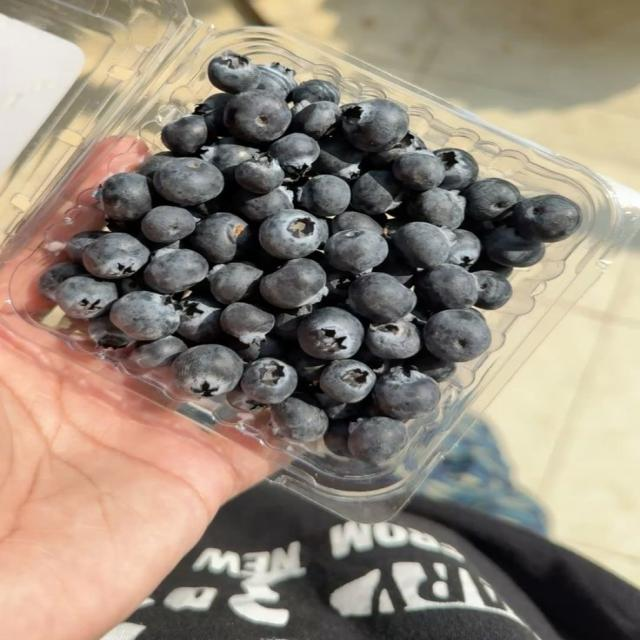blueberry: (173, 345, 243, 396), (110, 291, 180, 341), (225, 90, 291, 143), (342, 99, 408, 152), (373, 367, 439, 420), (424, 310, 491, 362), (298, 308, 364, 359), (348, 273, 416, 322), (260, 259, 326, 309), (154, 158, 224, 205), (513, 195, 581, 242), (190, 213, 251, 263), (260, 210, 322, 259), (83, 233, 149, 279), (415, 264, 477, 311), (325, 229, 388, 273), (144, 250, 208, 293), (348, 417, 407, 463), (55, 276, 117, 319), (393, 222, 450, 268), (240, 358, 297, 404), (201, 138, 259, 183), (271, 397, 328, 442), (100, 173, 153, 221), (268, 133, 319, 181), (462, 179, 520, 221), (320, 360, 375, 403), (484, 228, 544, 267), (407, 188, 465, 228), (352, 170, 403, 215), (297, 175, 351, 217), (220, 303, 274, 344), (209, 263, 263, 304), (366, 319, 421, 359), (314, 136, 364, 180), (177, 295, 222, 343), (208, 51, 259, 93), (367, 132, 426, 168), (392, 151, 445, 191), (233, 187, 293, 221), (234, 154, 285, 194), (141, 206, 195, 243), (161, 115, 209, 155), (130, 336, 186, 368), (39, 262, 86, 300), (292, 101, 340, 138), (435, 149, 478, 189), (374, 245, 413, 286), (194, 93, 232, 135), (407, 350, 455, 382), (257, 62, 297, 100), (473, 271, 512, 309), (87, 317, 133, 348), (288, 351, 326, 386), (315, 394, 366, 420), (447, 229, 481, 268), (274, 306, 312, 340), (355, 342, 394, 375), (290, 79, 339, 104), (67, 231, 106, 262), (185, 194, 233, 219), (331, 211, 382, 234), (136, 152, 177, 178), (470, 254, 513, 278), (324, 420, 350, 457), (327, 271, 357, 302), (226, 387, 260, 412), (257, 336, 290, 360), (105, 216, 141, 236), (117, 272, 146, 296), (383, 216, 406, 240), (291, 100, 310, 123), (317, 218, 330, 245)
